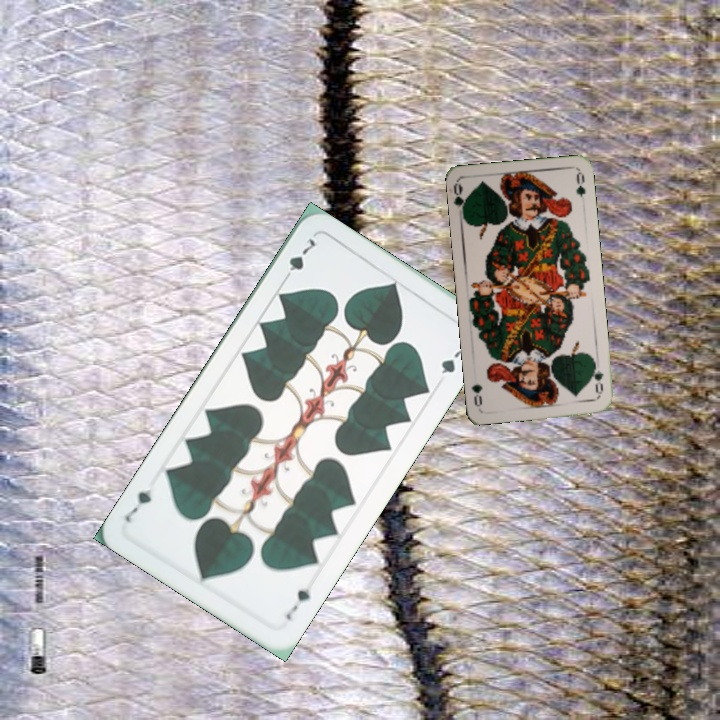G7: (278, 234, 320, 285), (281, 584, 313, 623)
GO: (449, 180, 470, 221), (588, 357, 606, 398)
